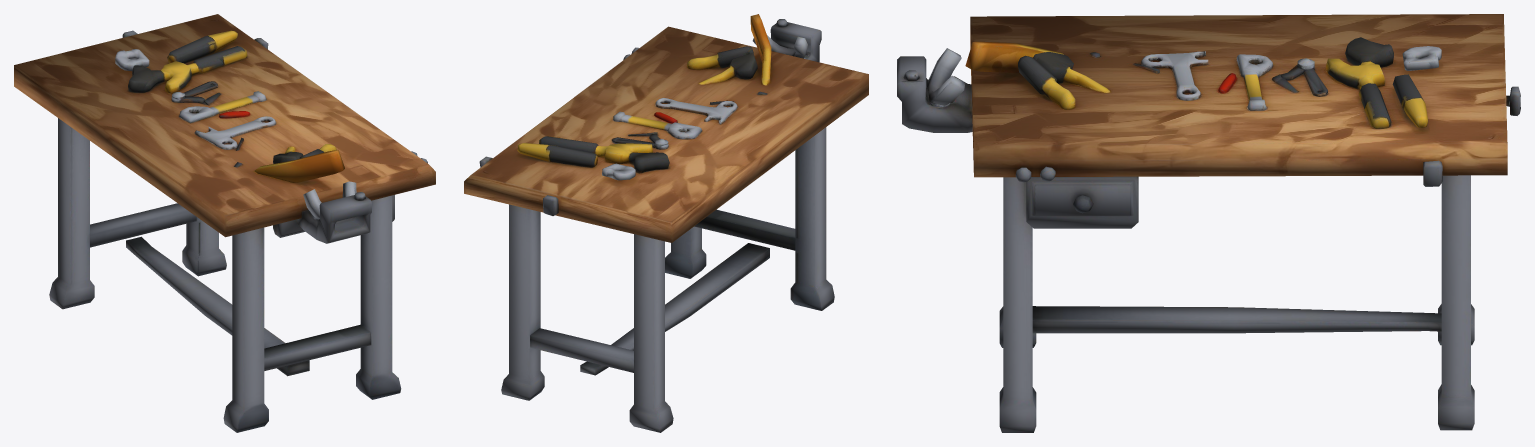
3 views of the same model, side by side, from view 1: azimuth 30°, elevation 25°; view 2: azimuth 150°, elevation 25°; view 3: azimuth 270°, elevation 25° (orthographic). The views are drawn at different scales.
Visible parts, largest first — view 1: tripo_node_7ad17617-e671-46dd-8d2e-afce650dfd40; view 2: tripo_node_7ad17617-e671-46dd-8d2e-afce650dfd40; view 3: tripo_node_7ad17617-e671-46dd-8d2e-afce650dfd40.
Boxes of the visible parts, x1,y1,x2,y2 form: tripo_node_7ad17617-e671-46dd-8d2e-afce650dfd40: [14, 14, 435, 432]; tripo_node_7ad17617-e671-46dd-8d2e-afce650dfd40: [464, 14, 868, 432]; tripo_node_7ad17617-e671-46dd-8d2e-afce650dfd40: [897, 14, 1520, 432].
Bounding box in the file's own units: 0.541 × 0.6074 × 0.998.
Materials: 1 (1 with a texture image).
